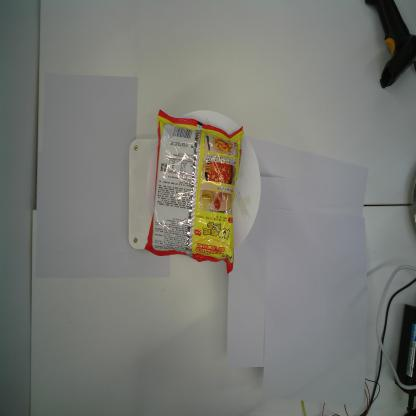Instant Noodles: (144, 108, 244, 275)
